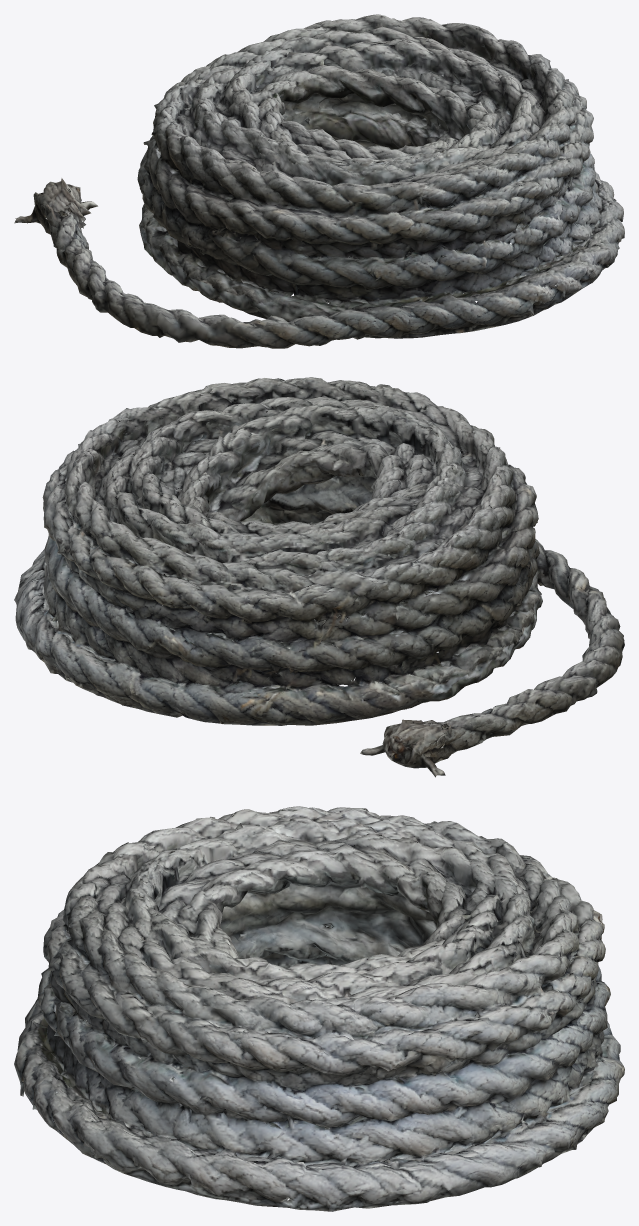
File: RopeCoil.glb
The picture shows the model from 3 angles, top to bottom: view 1: azimuth 30°, elevation 25°; view 2: azimuth 150°, elevation 25°; view 3: azimuth 270°, elevation 25°; orthographic projection. The views are drawn at different scales.
Parts seen in each view (by area): view 1: texture_mapping; view 2: texture_mapping; view 3: texture_mapping.
Boxes of the visible parts, x1=… form: texture_mapping: x1=14, y1=14, x2=624, y2=348; texture_mapping: x1=14, y1=377, x2=624, y2=777; texture_mapping: x1=14, y1=806, x2=624, y2=1211.
Size of the model in its own units: 0.9983 by 0.2883 by 0.8556.
1 material, 1 textured.
